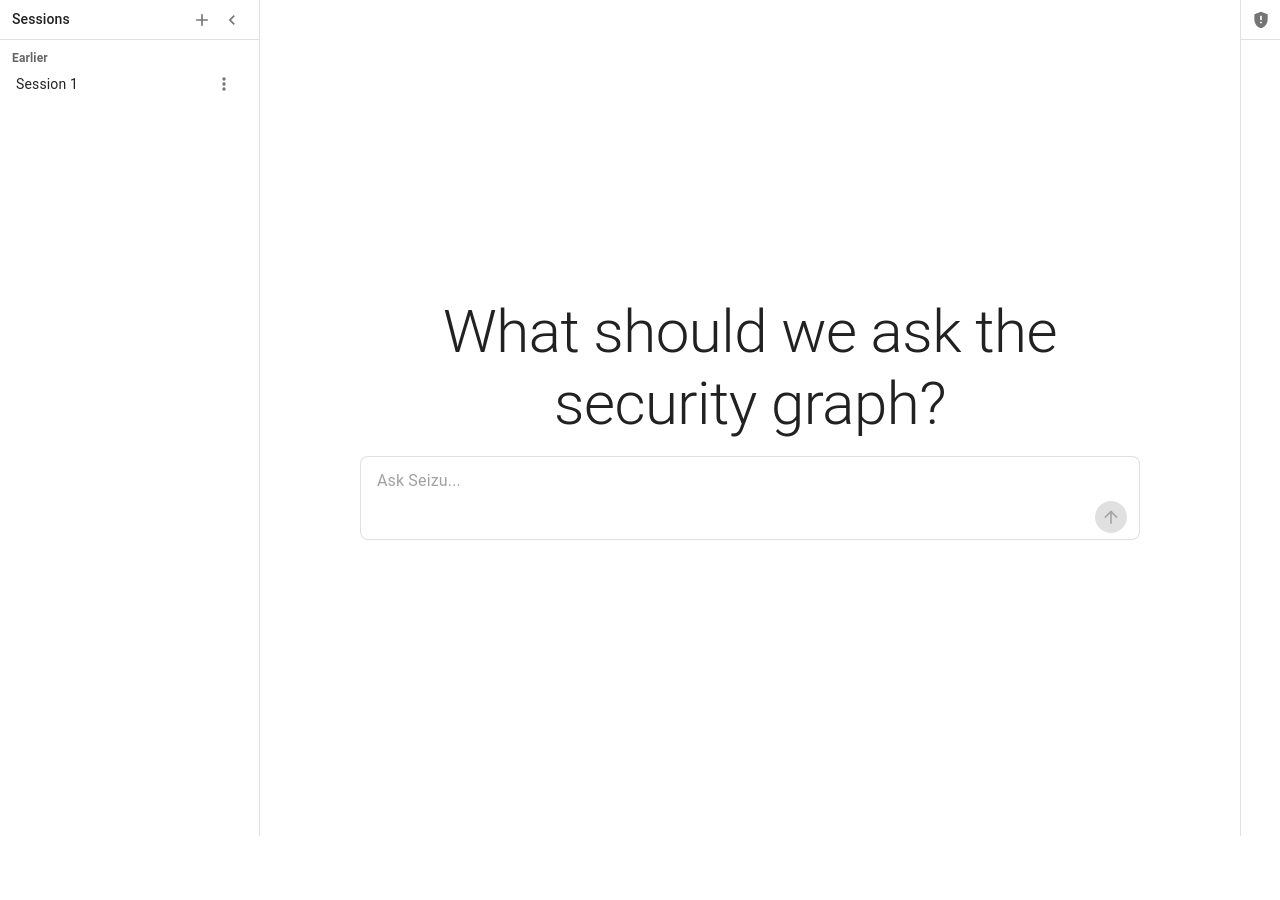
Scenario: ChatInterface › offers the bypass confirmations toggle on the new-session landing
Step 1. Click the button named "Open confirmations" → (1260, 20), box [1246,4,1276,34]
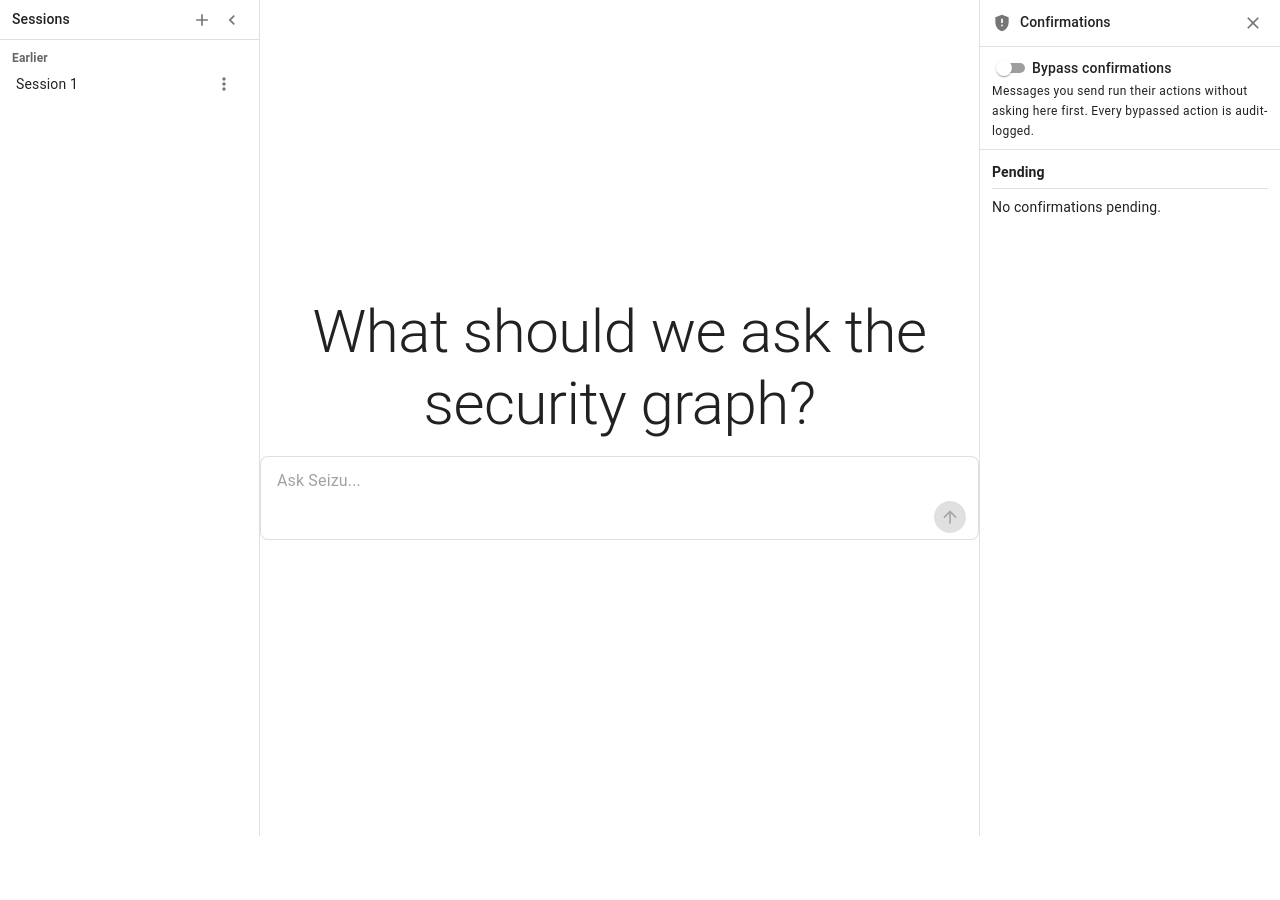
Expected: the switch labelled "Bypass confirmations" is not checked, [992,56,1172,80]
